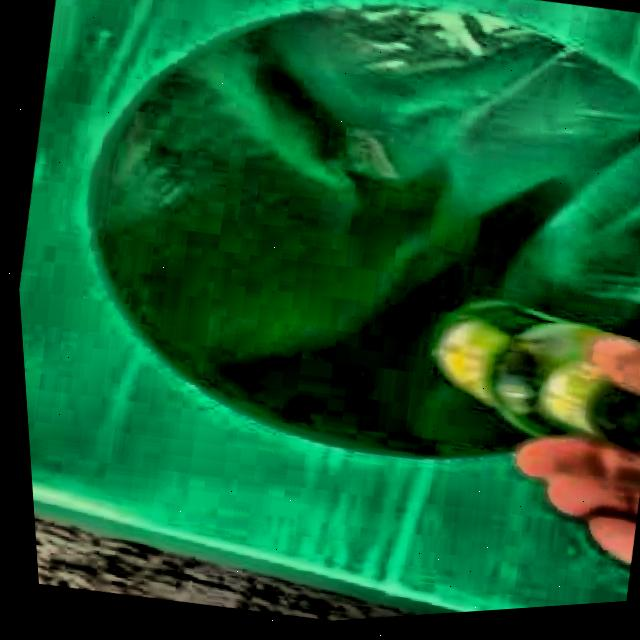glass: (430, 308, 640, 460)
